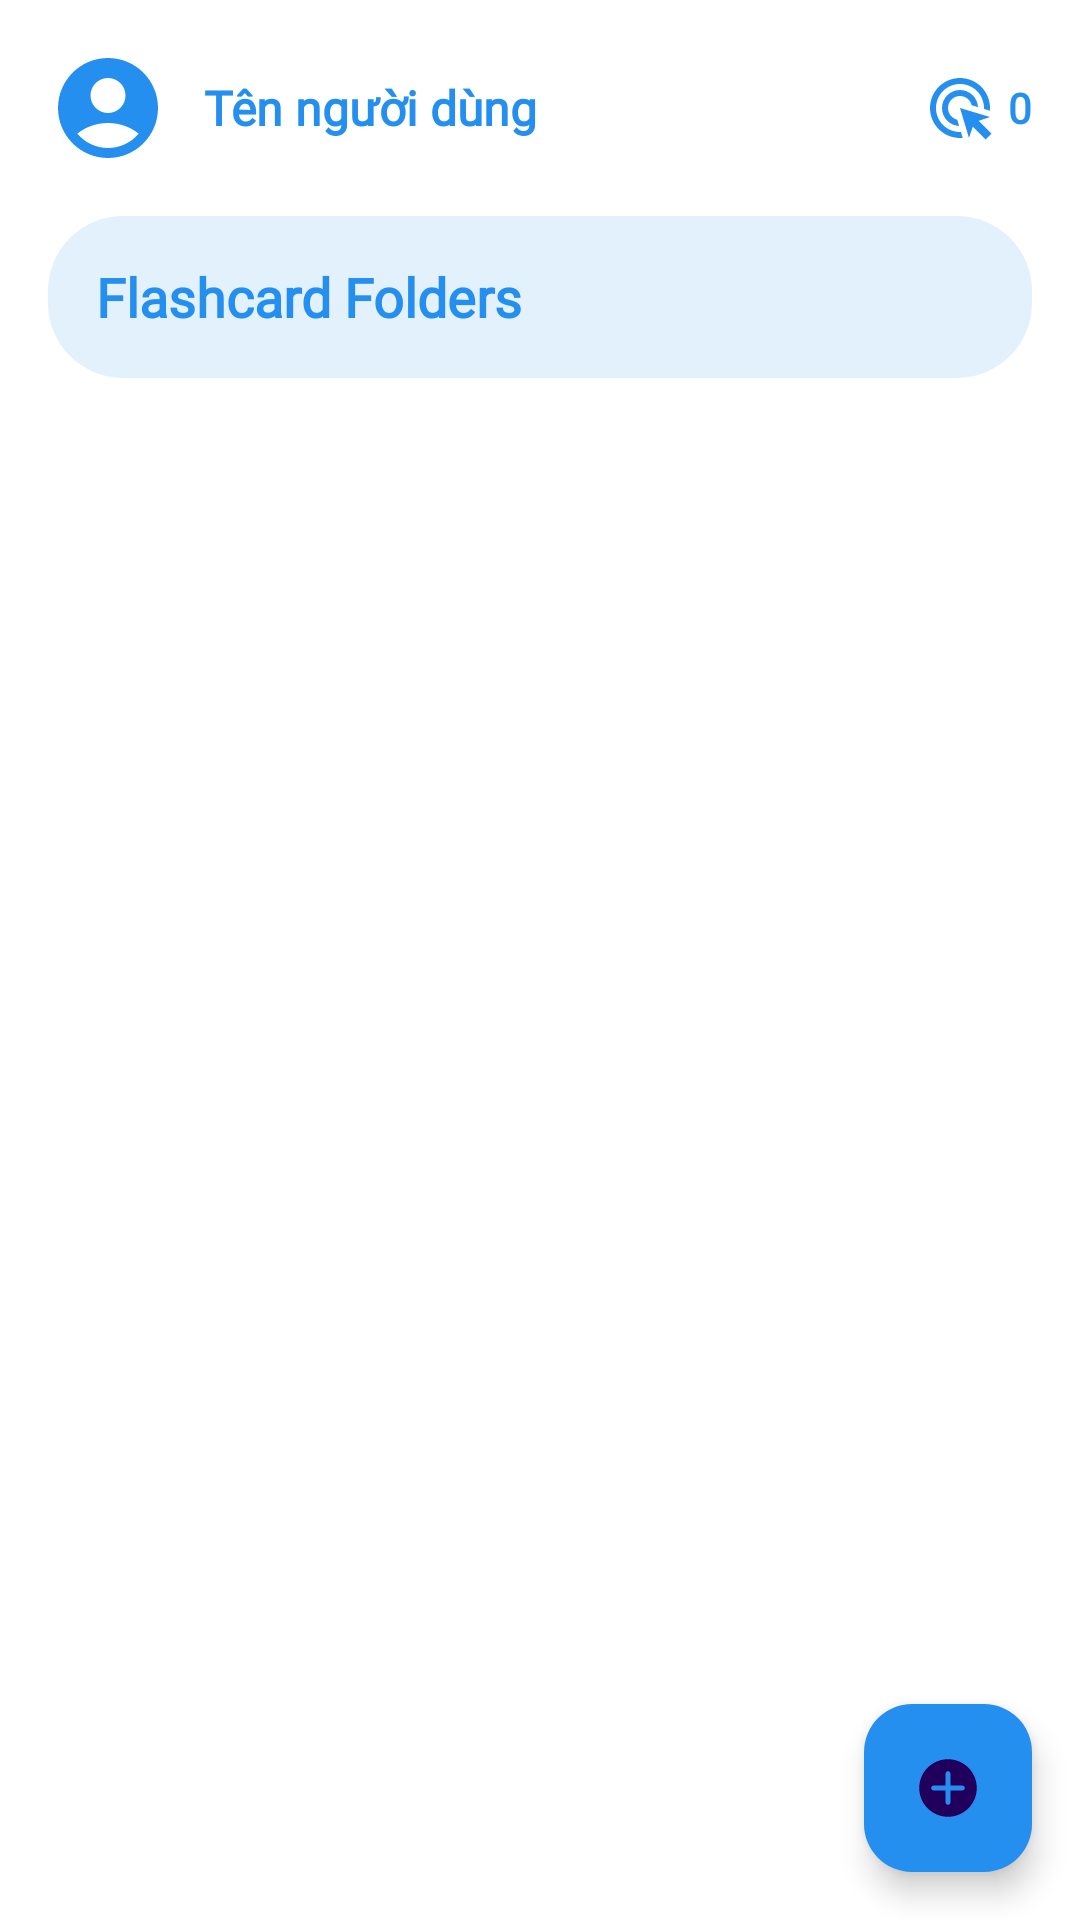

Where icons sit on this 1080px×1920px app screen, as (x1, y1, x2, y2):
Thêm Folder: (864, 1704, 1032, 1872)
